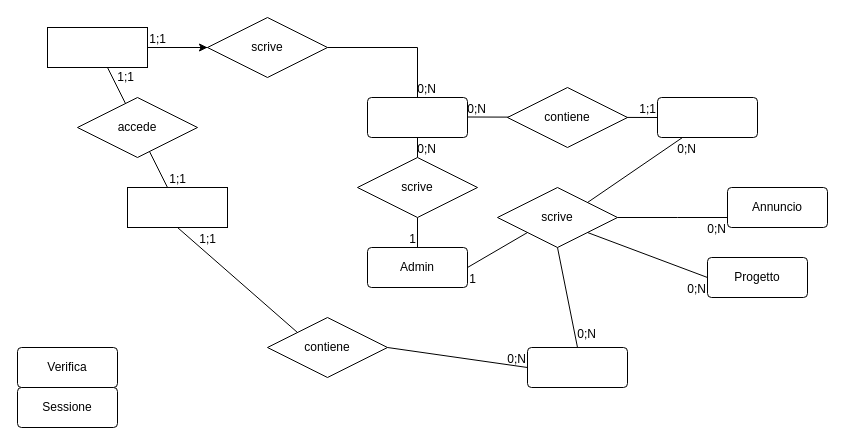
Image size: 845x445. Some labels were removed from this diagram. The box of each missing label's shape, as (x1, y1, x2, y2) in pixels:
Account: (46, 26, 148, 68)
Commento: (366, 96, 468, 138)
Post-blog: (656, 96, 758, 138)
Prodotto: (526, 346, 628, 388)
Wishlist: (126, 186, 228, 228)
